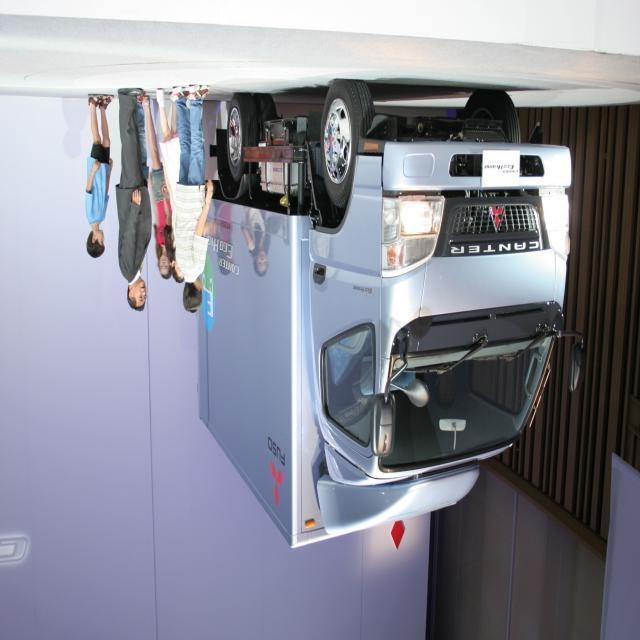Truck: (199, 81, 592, 554)
